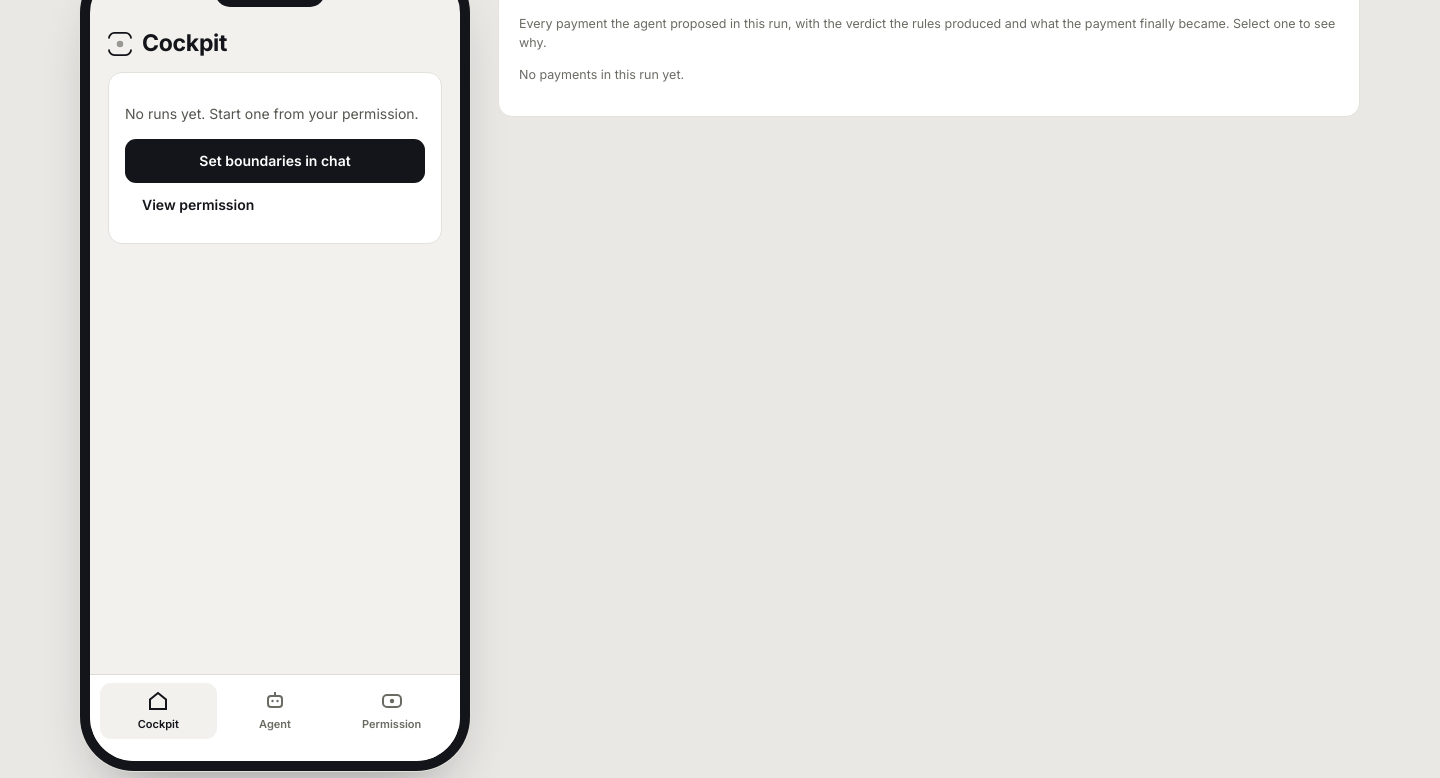
it: tab bar › keeps the engine inspector beside the chat on desktop
(page scrolled)
Click the button "Agent": click(275, 711) [217,683,333,739]
(page scrolled)
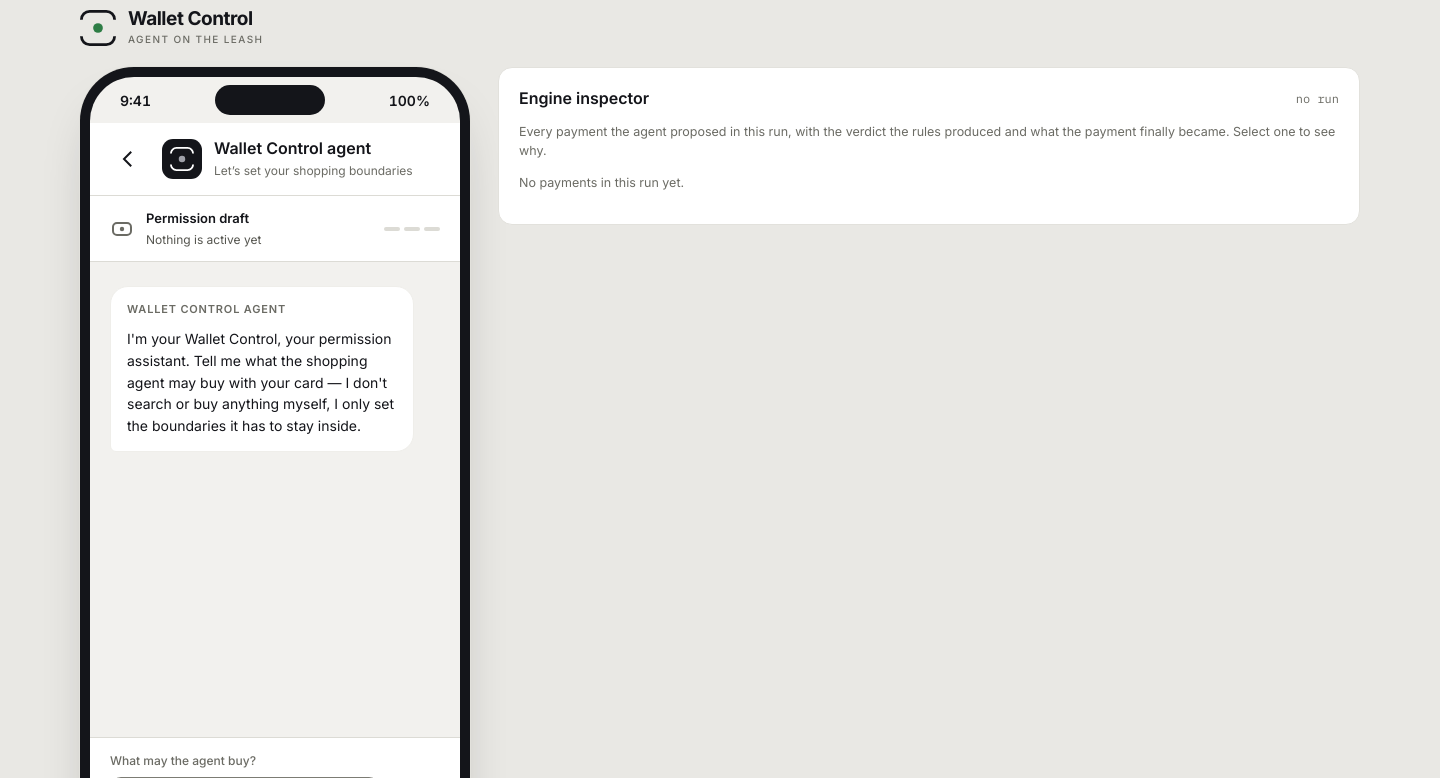
Expected: the element "Engine inspector" is shown, [498,67,1360,225]
Result: the heading "Wallet Control agent" is shown at [214,138,371,158]
